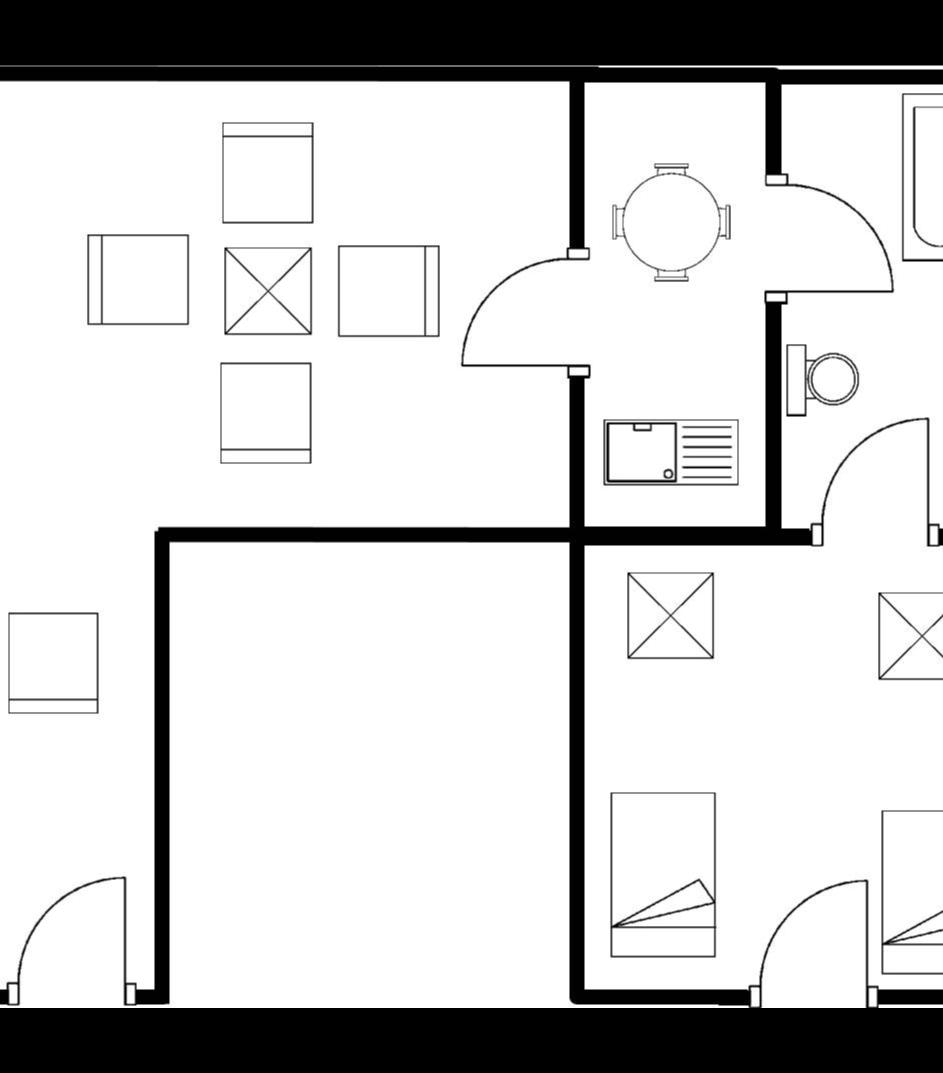bed: (605, 784, 723, 966), (875, 805, 943, 981)
round_table: (605, 156, 738, 292)
sink: (600, 415, 746, 495)
toilet: (784, 331, 864, 425)
tub: (893, 88, 943, 270)
